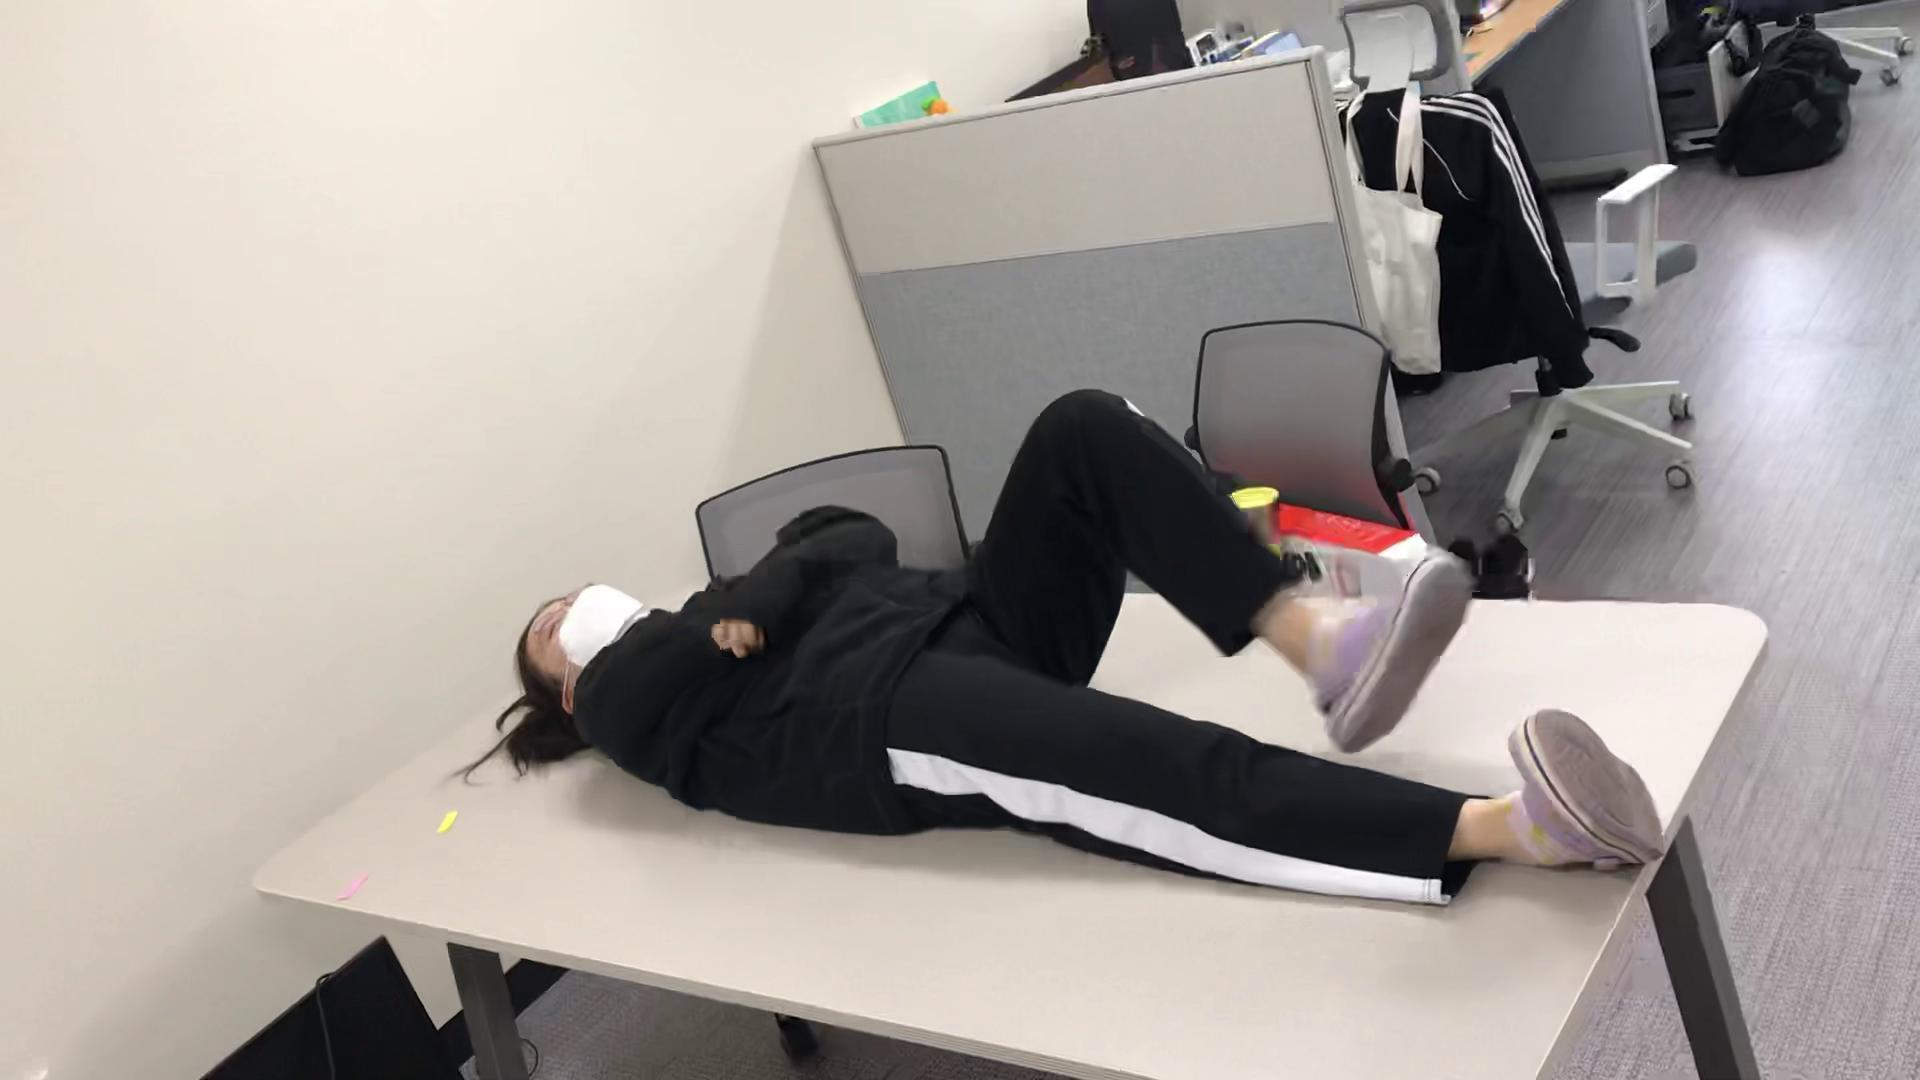sleep: (506, 390, 1659, 909)
